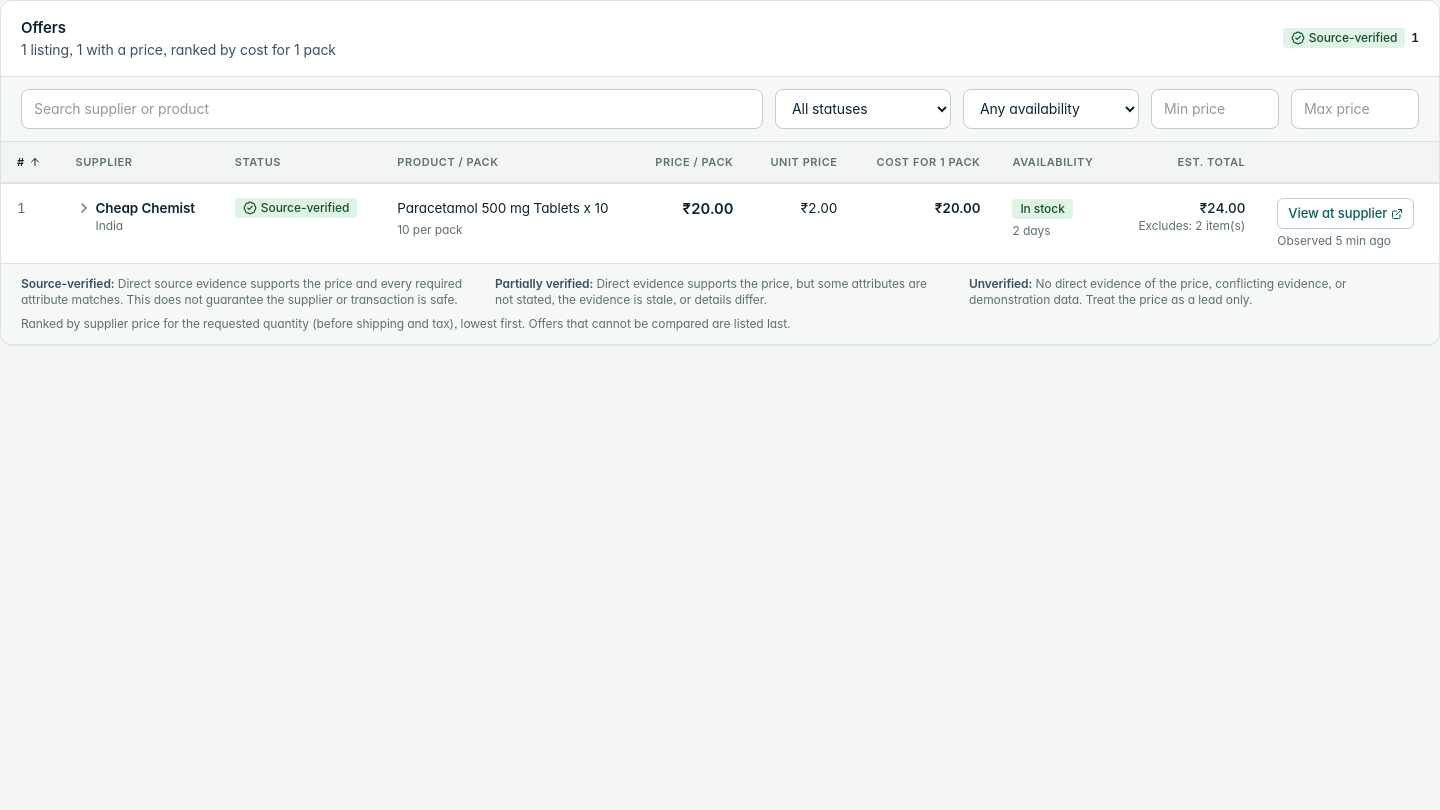
it: OffersSection › expands a row to show evidence and the cost breakdown
Step 1. Click the button "Cheap Chemist India" → point(135, 216), box top-left (76, 198), bottom-right (195, 234)
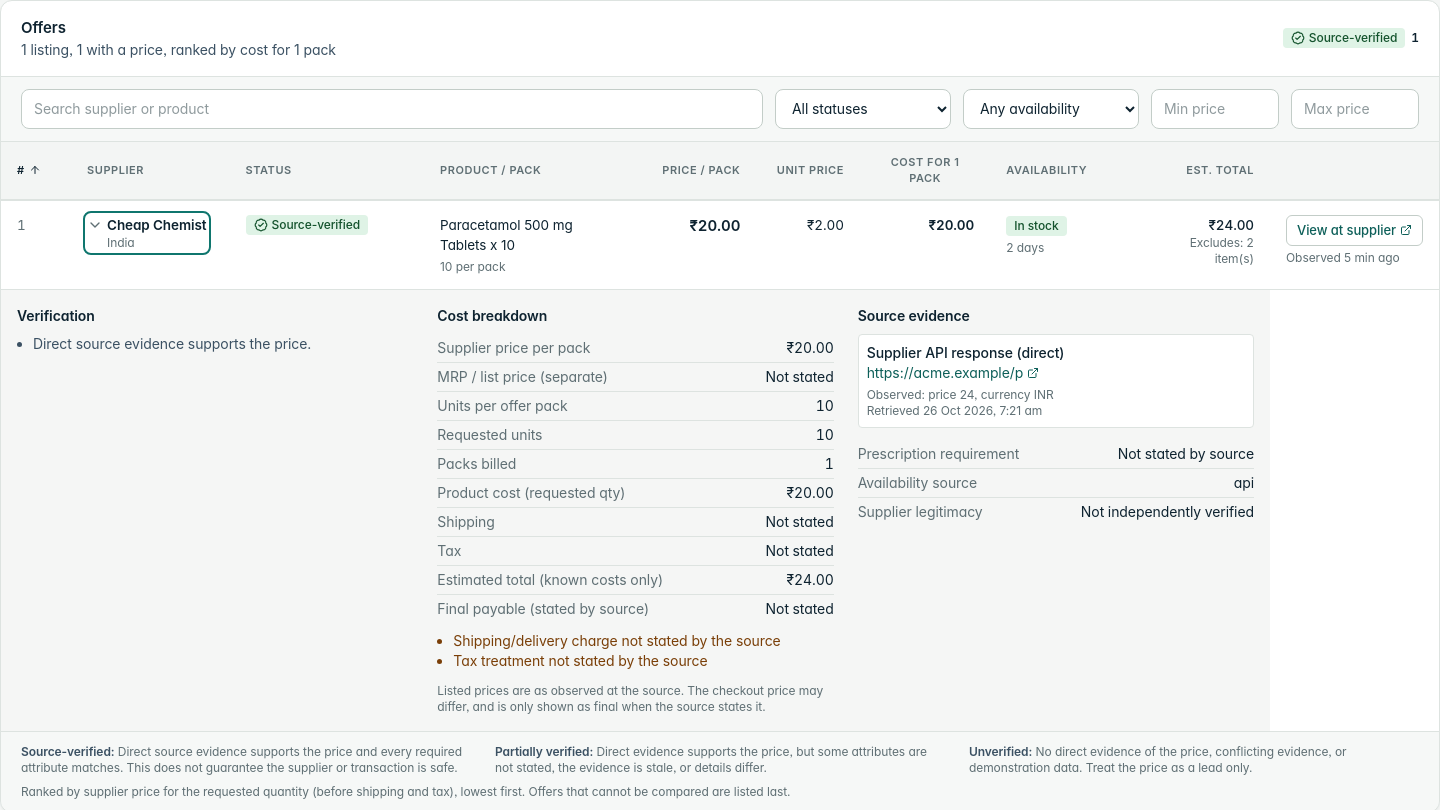
Check: the heading "Source evidence" is shown, box top-left (858, 307), bottom-right (970, 324)
Check: the text "Supplier API response (direct)" is shown, box top-left (867, 344), bottom-right (1064, 361)
Check: the text "Final payable (stated by source)" is shown, box top-left (437, 599), bottom-right (649, 619)
